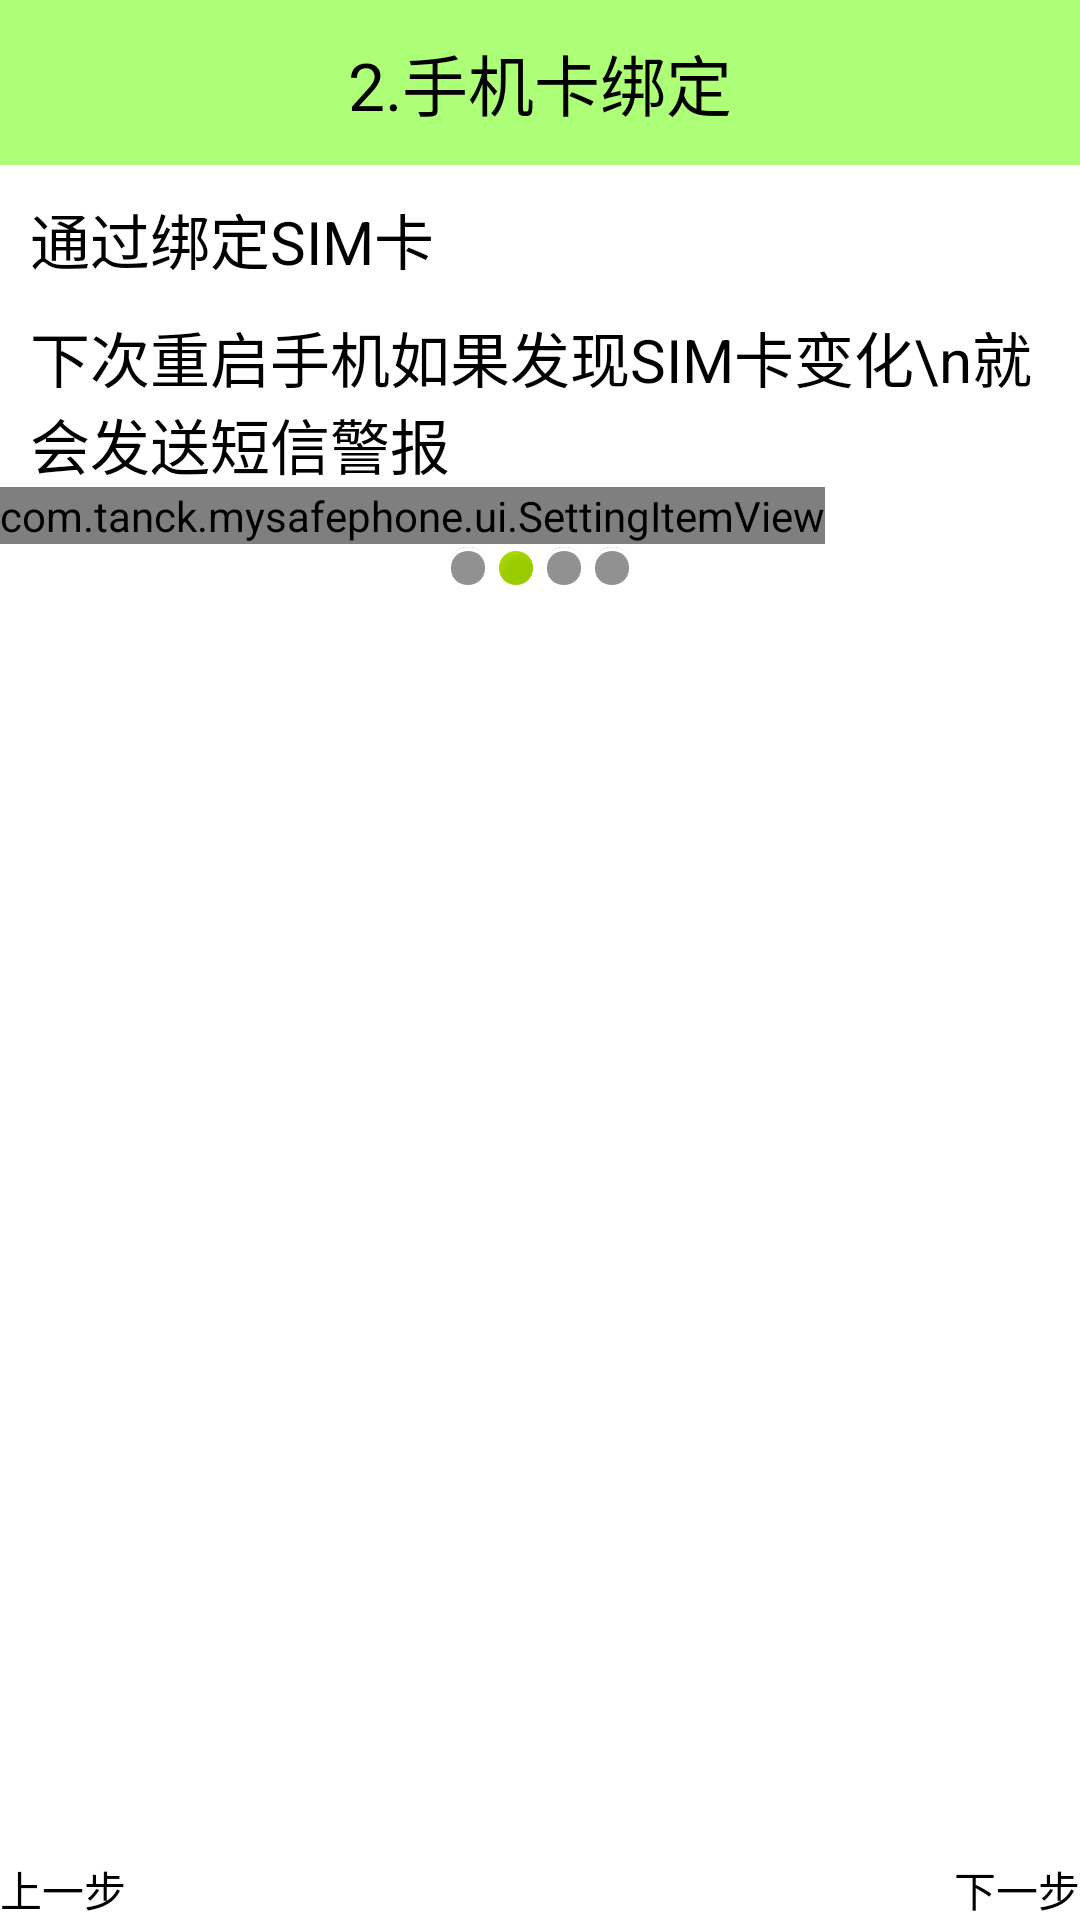

Screen size 1080 x 1920. Icon name, then its center in pixels as (x,y):
presence invisible: (468,566), (564,566), (612,566)
presence online: (516,568)
